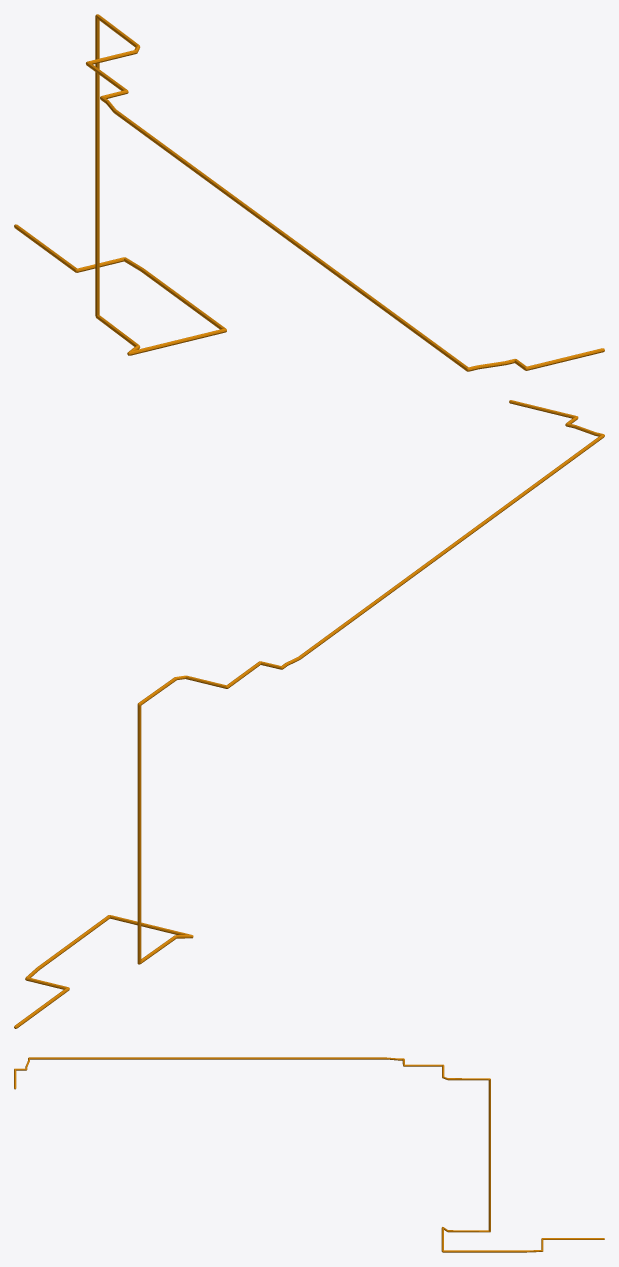
The picture shows the model from 3 angles, top to bottom: view 1: azimuth 30°, elevation 25°; view 2: azimuth 150°, elevation 25°; view 3: azimuth 270°, elevation 25°; orthographic projection. The views are drawn at different scales.
Bounding box in the file's own units: 885 × 1520 × 5284.
